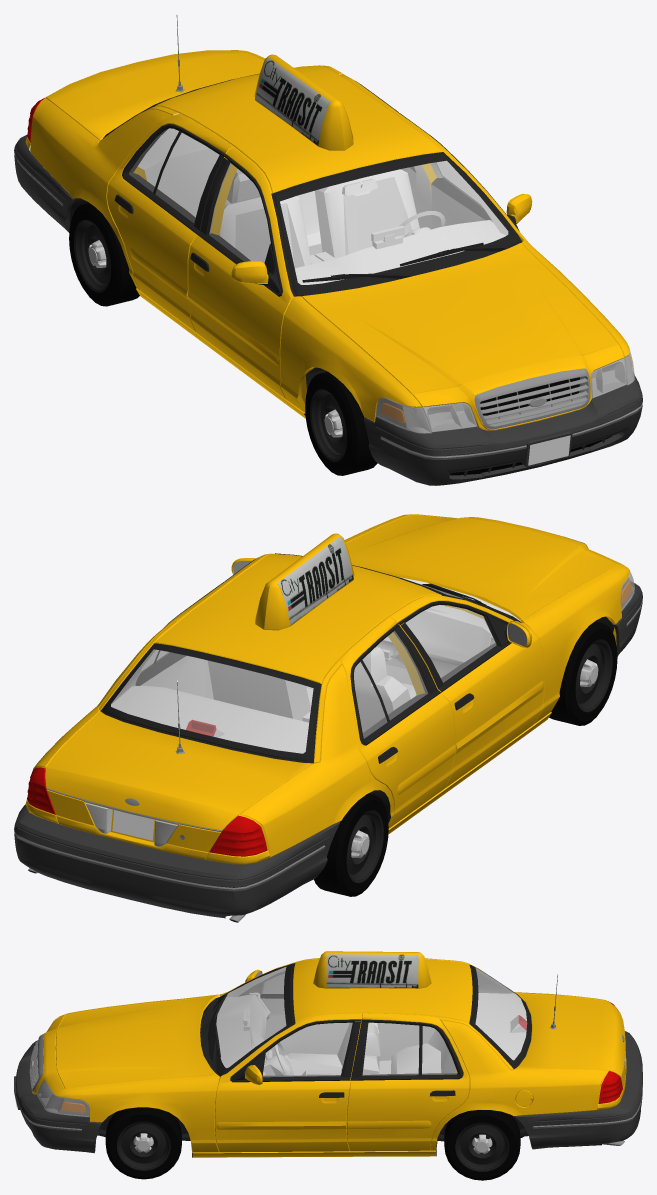
3 views of the same model, one above another, from view 1: azimuth 30°, elevation 25°; view 2: azimuth 150°, elevation 25°; view 3: azimuth 270°, elevation 25° (orthographic). The views are drawn at different scales.
Visible parts, largest first — view 1: chassis01 (×8), bonnet_ok, bump_fro03 (×8), windscre01, door_lf_ok (×6), door_lr_ok (×2), wheel (×4), boot_ok, wing_rf_ok, door_lr_01 (×2), door_lf_01, bump_gla01 (×2) (+2 smaller); view 2: chassis01 (×10), boot_ok (×3), bump_rea01 (×2), bonnet_ok, glass_ok, door_lr_ok (×4), door_lf_ok (×2), wheel (×4), wing_rf_ok, door_lr_01 (×2), door_lf_01, bump_fro03 (×2); view 3: chassis01 (×11), door_lf_ok (×3), bonnet_ok, door_lr_ok (×3), wheel (×4), boot_ok, wing_lf_ok, bump_fro03 (×3), bump_rea01, windscre01, door_lr_01 (×2), door_lf_01 (+2 smaller).
Boxes of the visible parts, bbox=[...] form: chassis01 (×8): bbox=[25, 50, 522, 418]; bonnet_ok: bbox=[302, 243, 618, 394]; bump_fro03 (×8): bbox=[364, 344, 642, 485]; windscre01: bbox=[280, 161, 508, 284]; door_lf_ok (×6): bbox=[187, 109, 527, 398]; door_lr_ok (×2): bbox=[107, 113, 232, 331]; wheel (×4): bbox=[69, 203, 377, 475]; boot_ok: bbox=[45, 50, 264, 140]; wing_rf_ok: bbox=[280, 296, 421, 421]; door_lr_01 (×2): bbox=[129, 128, 219, 222]; door_lf_01: bbox=[209, 163, 270, 262]; bump_gla01 (×2): bbox=[375, 349, 634, 433]; chassis01 (×10): bbox=[25, 533, 616, 864]; boot_ok (×3): bbox=[45, 711, 313, 859]; bump_rea01 (×2): bbox=[14, 804, 340, 918]; bonnet_ok: bbox=[346, 514, 618, 620]; glass_ok: bbox=[111, 649, 313, 753]; door_lr_ok (×4): bbox=[135, 582, 456, 828]; door_lf_ok (×2): bbox=[389, 595, 544, 788]; wheel (×4): bbox=[314, 621, 617, 896]; wing_rf_ok: bbox=[521, 564, 629, 724]; door_lr_01 (×2): bbox=[354, 631, 427, 738]; door_lf_01: bbox=[406, 605, 496, 682]; bump_fro03 (×2): bbox=[413, 514, 642, 656]; chassis01 (×11): bbox=[97, 951, 623, 1157]; door_lf_ok (×3): bbox=[214, 982, 362, 1152]; bonnet_ok: bbox=[55, 996, 216, 1088]; door_lr_ok (×3): bbox=[346, 1013, 469, 1151]; wheel (×4): bbox=[105, 1107, 520, 1180]; boot_ok: bbox=[514, 993, 625, 1075]; wing_lf_ok: bbox=[54, 1074, 220, 1152]; bump_fro03 (×3): bbox=[15, 1015, 101, 1153]; bump_rea01: bbox=[514, 1031, 642, 1149]; windscre01: bbox=[216, 967, 286, 1067]; door_lr_01 (×2): bbox=[362, 1022, 457, 1075]; door_lf_01: bbox=[262, 1022, 352, 1077].
Size of the model in its own units: 136 by 341 by 108.
19 materials, 1 textured.
